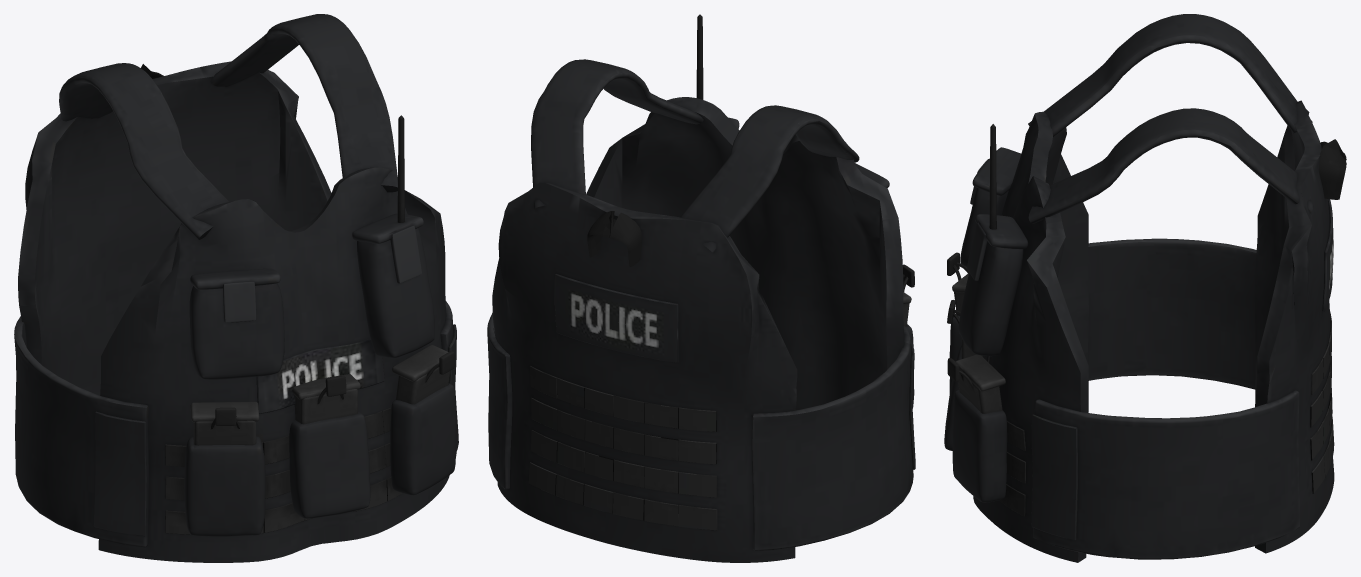
File: vest_2.glb
3 views of the same model, side by side, from view 1: azimuth 30°, elevation 25°; view 2: azimuth 150°, elevation 25°; view 3: azimuth 270°, elevation 25° (orthographic). The views are drawn at different scales.
Visible parts, largest first — view 1: body; view 2: body; view 3: body.
Boxes of the visible parts, left/top/right/bottom form: body: left=14, top=14, right=458, bottom=562; body: left=487, top=14, right=915, bottom=562; body: left=944, top=14, right=1346, bottom=562.
Bounding box in the file's own units: 0.4687 × 0.4769 × 0.4236.
1 material, 1 textured.
